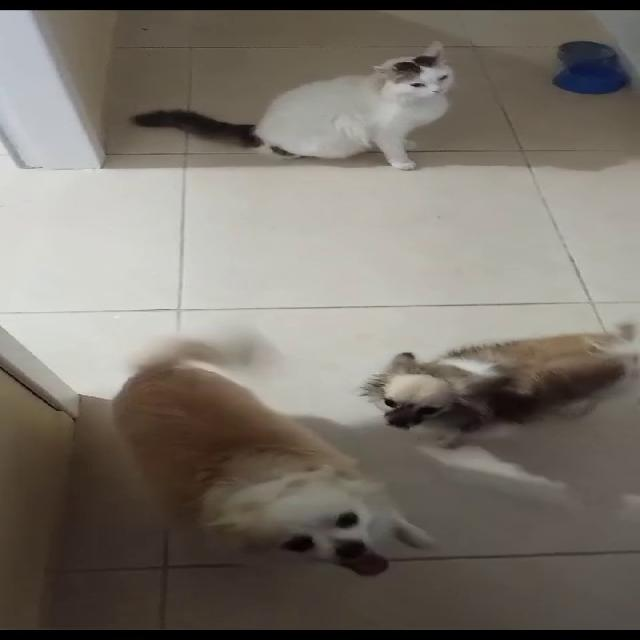Pedrita: (340, 331, 638, 440)
Theo: (113, 321, 416, 583)
